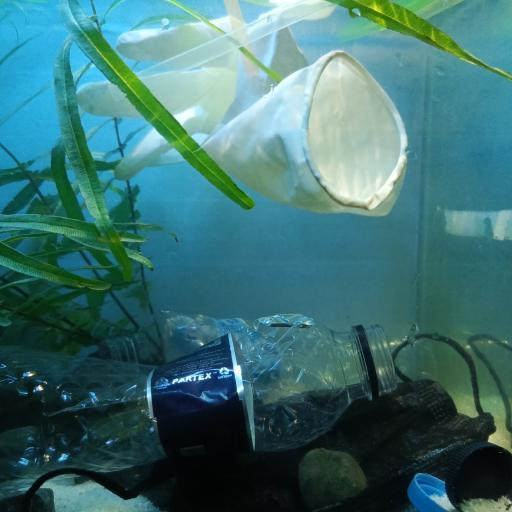bottle_cap: (447, 438, 511, 512), (406, 472, 455, 512)
glove: (76, 0, 410, 216)
mask: (24, 331, 496, 512)
plastic_bottle: (0, 311, 400, 481), (103, 310, 264, 371)
plastic_straw: (108, 0, 340, 100), (222, 0, 262, 77)
